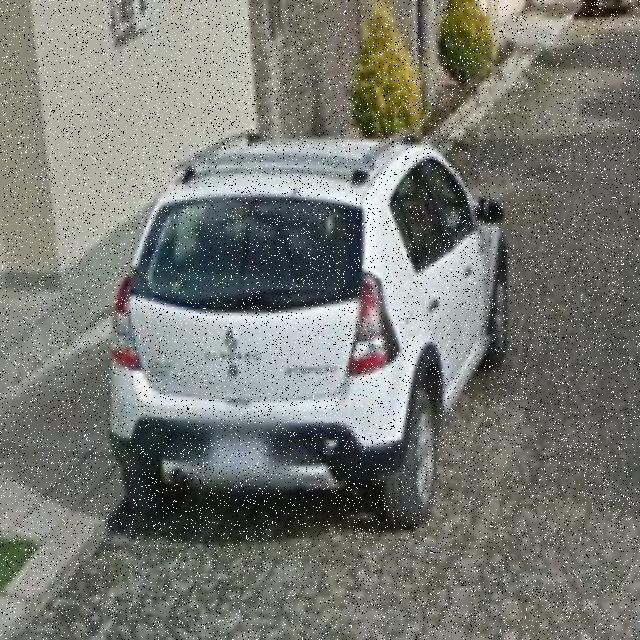cars: (117, 136, 510, 537)
